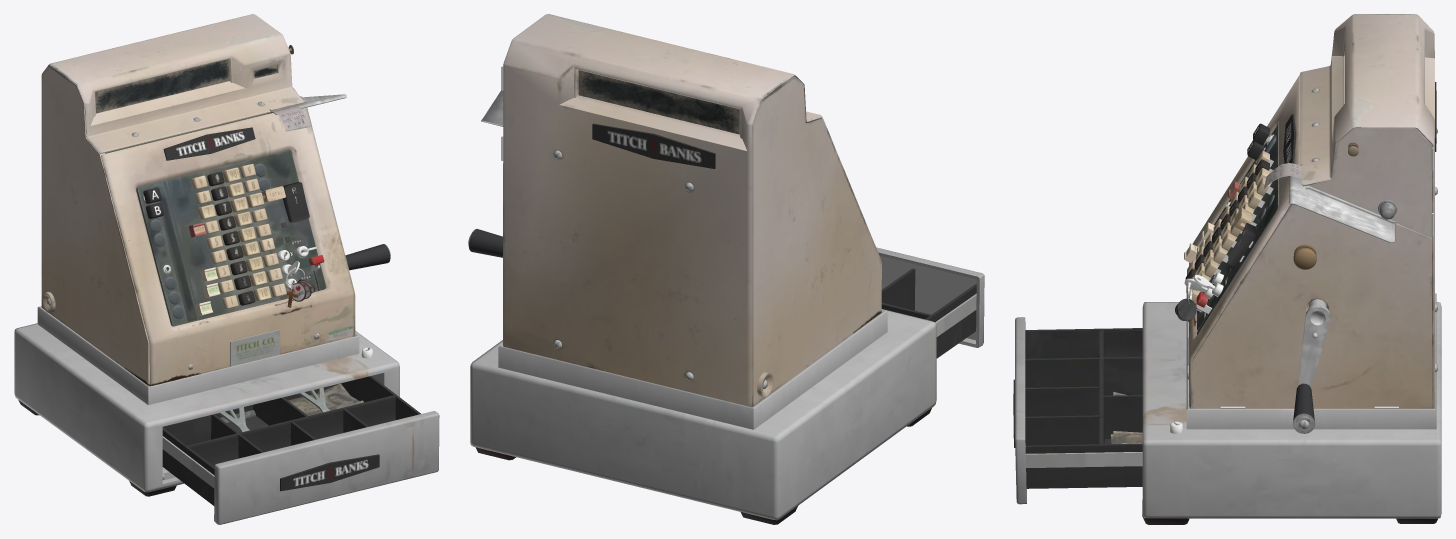
The model's file is CashRegister_01.glb.
3 renders of one model, left to right at view 1: azimuth 30°, elevation 25°; view 2: azimuth 150°, elevation 25°; view 3: azimuth 270°, elevation 25°, orthographic. The views are drawn at different scales.
Visible parts, largest first — view 1: CashRegister_01_body, CashRegister_011_drawer; view 2: CashRegister_01_body, CashRegister_011_drawer; view 3: CashRegister_01_body, CashRegister_011_drawer.
Boxes of the visible parts, <box> form: CashRegister_01_body: <box>14,14,399,496</box>; CashRegister_011_drawer: <box>162,376,439,524</box>; CashRegister_01_body: <box>468,14,936,524</box>; CashRegister_011_drawer: <box>876,247,984,358</box>; CashRegister_01_body: <box>1142,14,1441,524</box>; CashRegister_011_drawer: <box>1013,317,1142,504</box>.
Bounding box in the file's own units: 0.6005 × 0.6214 × 0.6242.
Materials: 2 (2 with a texture image).
